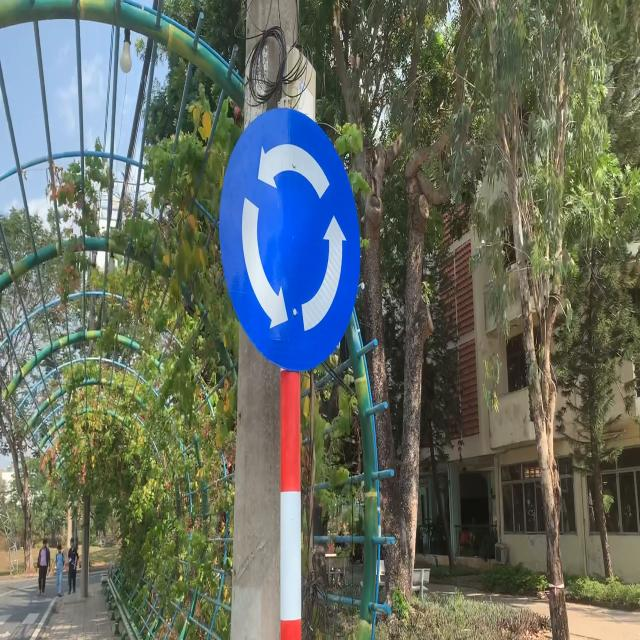Vong xuyen: (218, 107, 362, 374)
